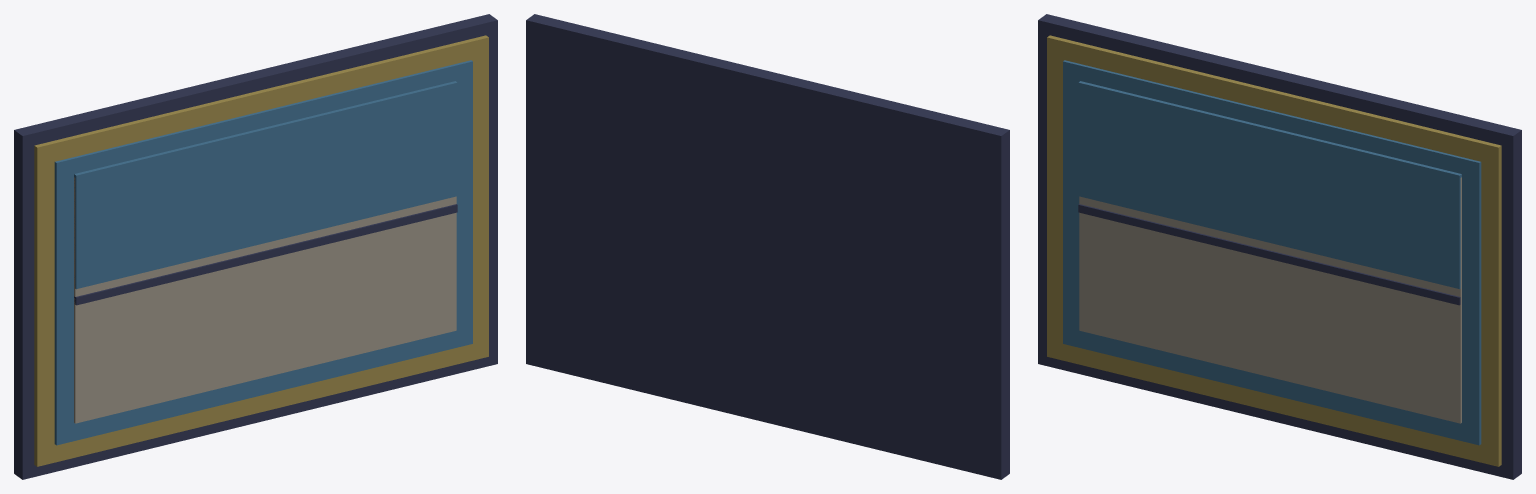
The model's file is painel_p17.glb.
The picture shows the model from 3 angles, left to right: view 1: azimuth 30°, elevation 25°; view 2: azimuth 150°, elevation 25°; view 3: azimuth 330°, elevation 25°; orthographic projection.
Parts seen in each view (by area): view 1: Moldura_0; view 2: Moldura_0; view 3: Moldura_0.
Boxes of the visible parts, x1,y1,x2,y2 form: Moldura_0: [14, 14, 497, 479]; Moldura_0: [526, 14, 1009, 479]; Moldura_0: [1038, 14, 1521, 479].
Size of the model in its own units: 1.62 by 1.12 by 0.0905.
